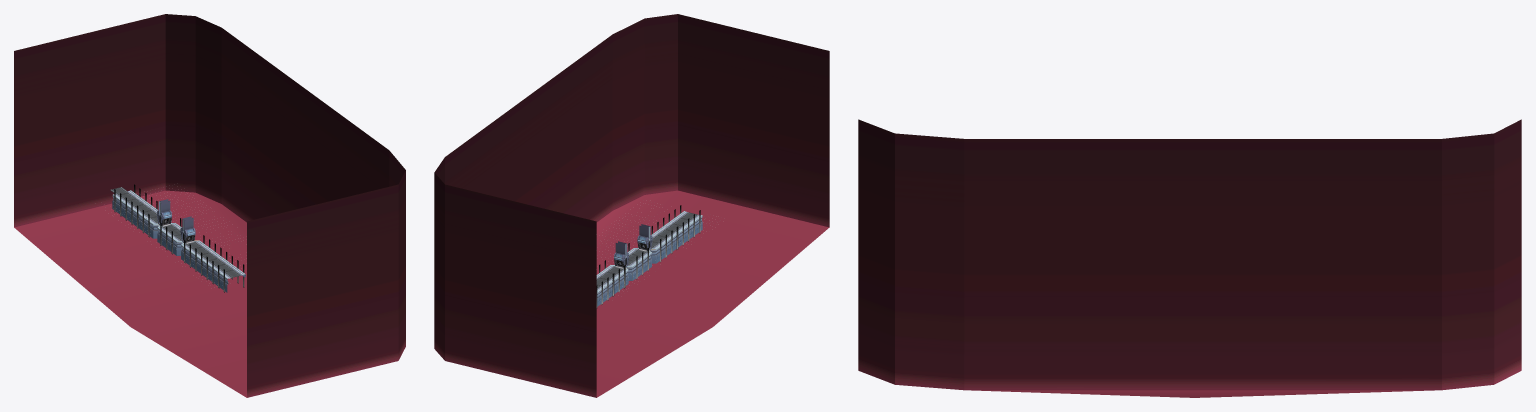
Rendered from sb_03_munitionsfactory_p01_n.fbx.
3 views of the same model, side by side, from view 1: azimuth 30°, elevation 25°; view 2: azimuth 150°, elevation 25°; view 3: azimuth 270°, elevation 25° (orthographic). The views are drawn at different scales.
Visible parts, largest first — view 1: sb_munitionsfactory_02_obj_29; view 2: sb_munitionsfactory_02_obj_29; view 3: sb_munitionsfactory_02_obj_29.
Boxes of the visible parts, x1,y1,x2,y2 form: sb_munitionsfactory_02_obj_29: (14,14,405,397); sb_munitionsfactory_02_obj_29: (434,14,829,397); sb_munitionsfactory_02_obj_29: (858,119,1521,397).
Size of the model in its own units: 97.19 by 98.62 by 218.
